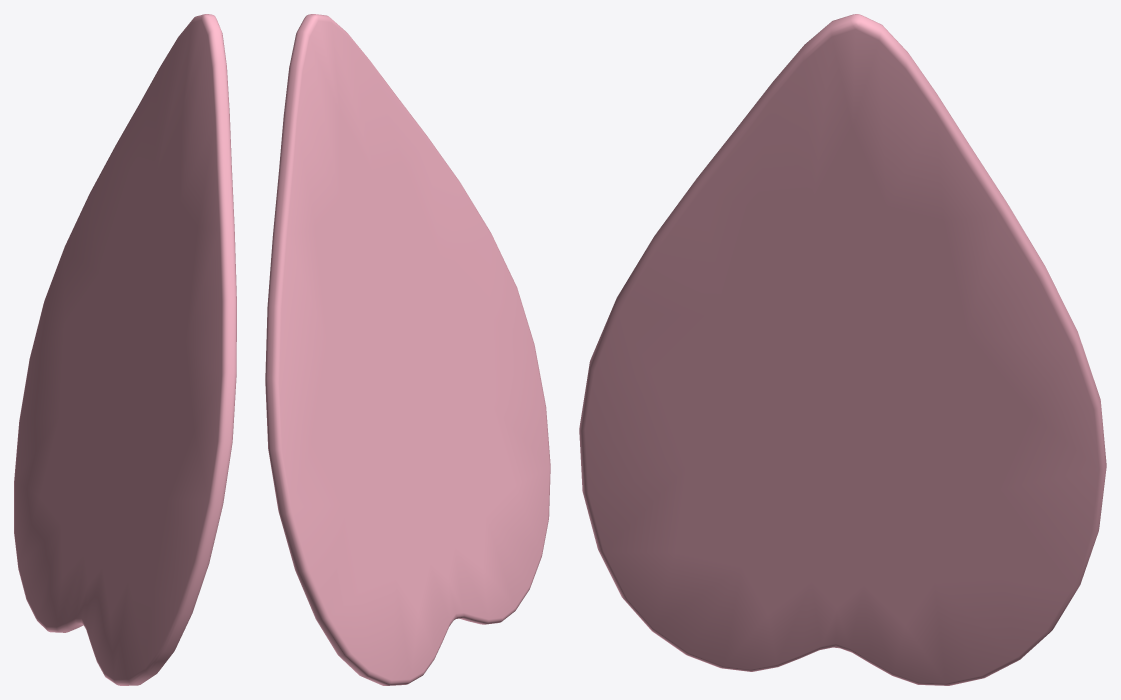
Rendered from pinkFlower_8.glb.
The picture shows the model from 3 angles, left to right: view 1: azimuth 30°, elevation 25°; view 2: azimuth 150°, elevation 25°; view 3: azimuth 270°, elevation 25°; orthographic projection. The views are drawn at different scales.
Visible parts, largest first — view 1: Petal_01_Sakura_Cleft.119; view 2: Petal_01_Sakura_Cleft.119; view 3: Petal_01_Sakura_Cleft.119.
Boxes of the visible parts, x1,y1,x2,y2 form: Petal_01_Sakura_Cleft.119: (14, 14, 236, 685); Petal_01_Sakura_Cleft.119: (265, 14, 550, 685); Petal_01_Sakura_Cleft.119: (579, 14, 1106, 685).
Bounding box in the file's own units: 0.899 × 3.36 × 2.16.
